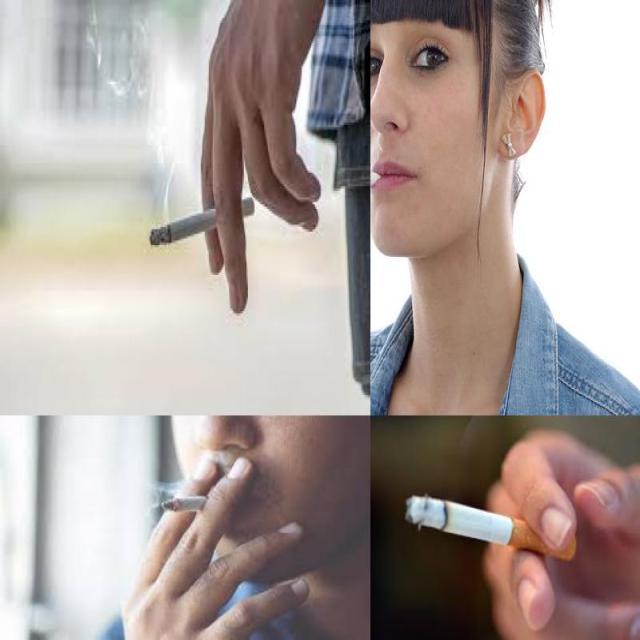smoking: (404, 494, 578, 562), (148, 197, 255, 248), (160, 496, 234, 513)
